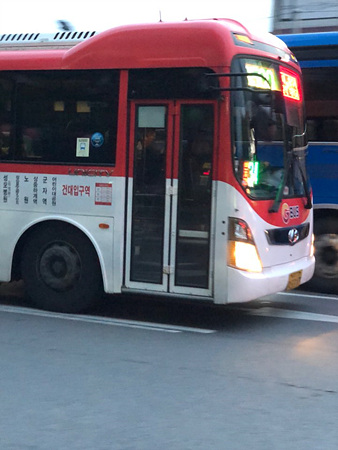entrance: (126, 95, 216, 308)
